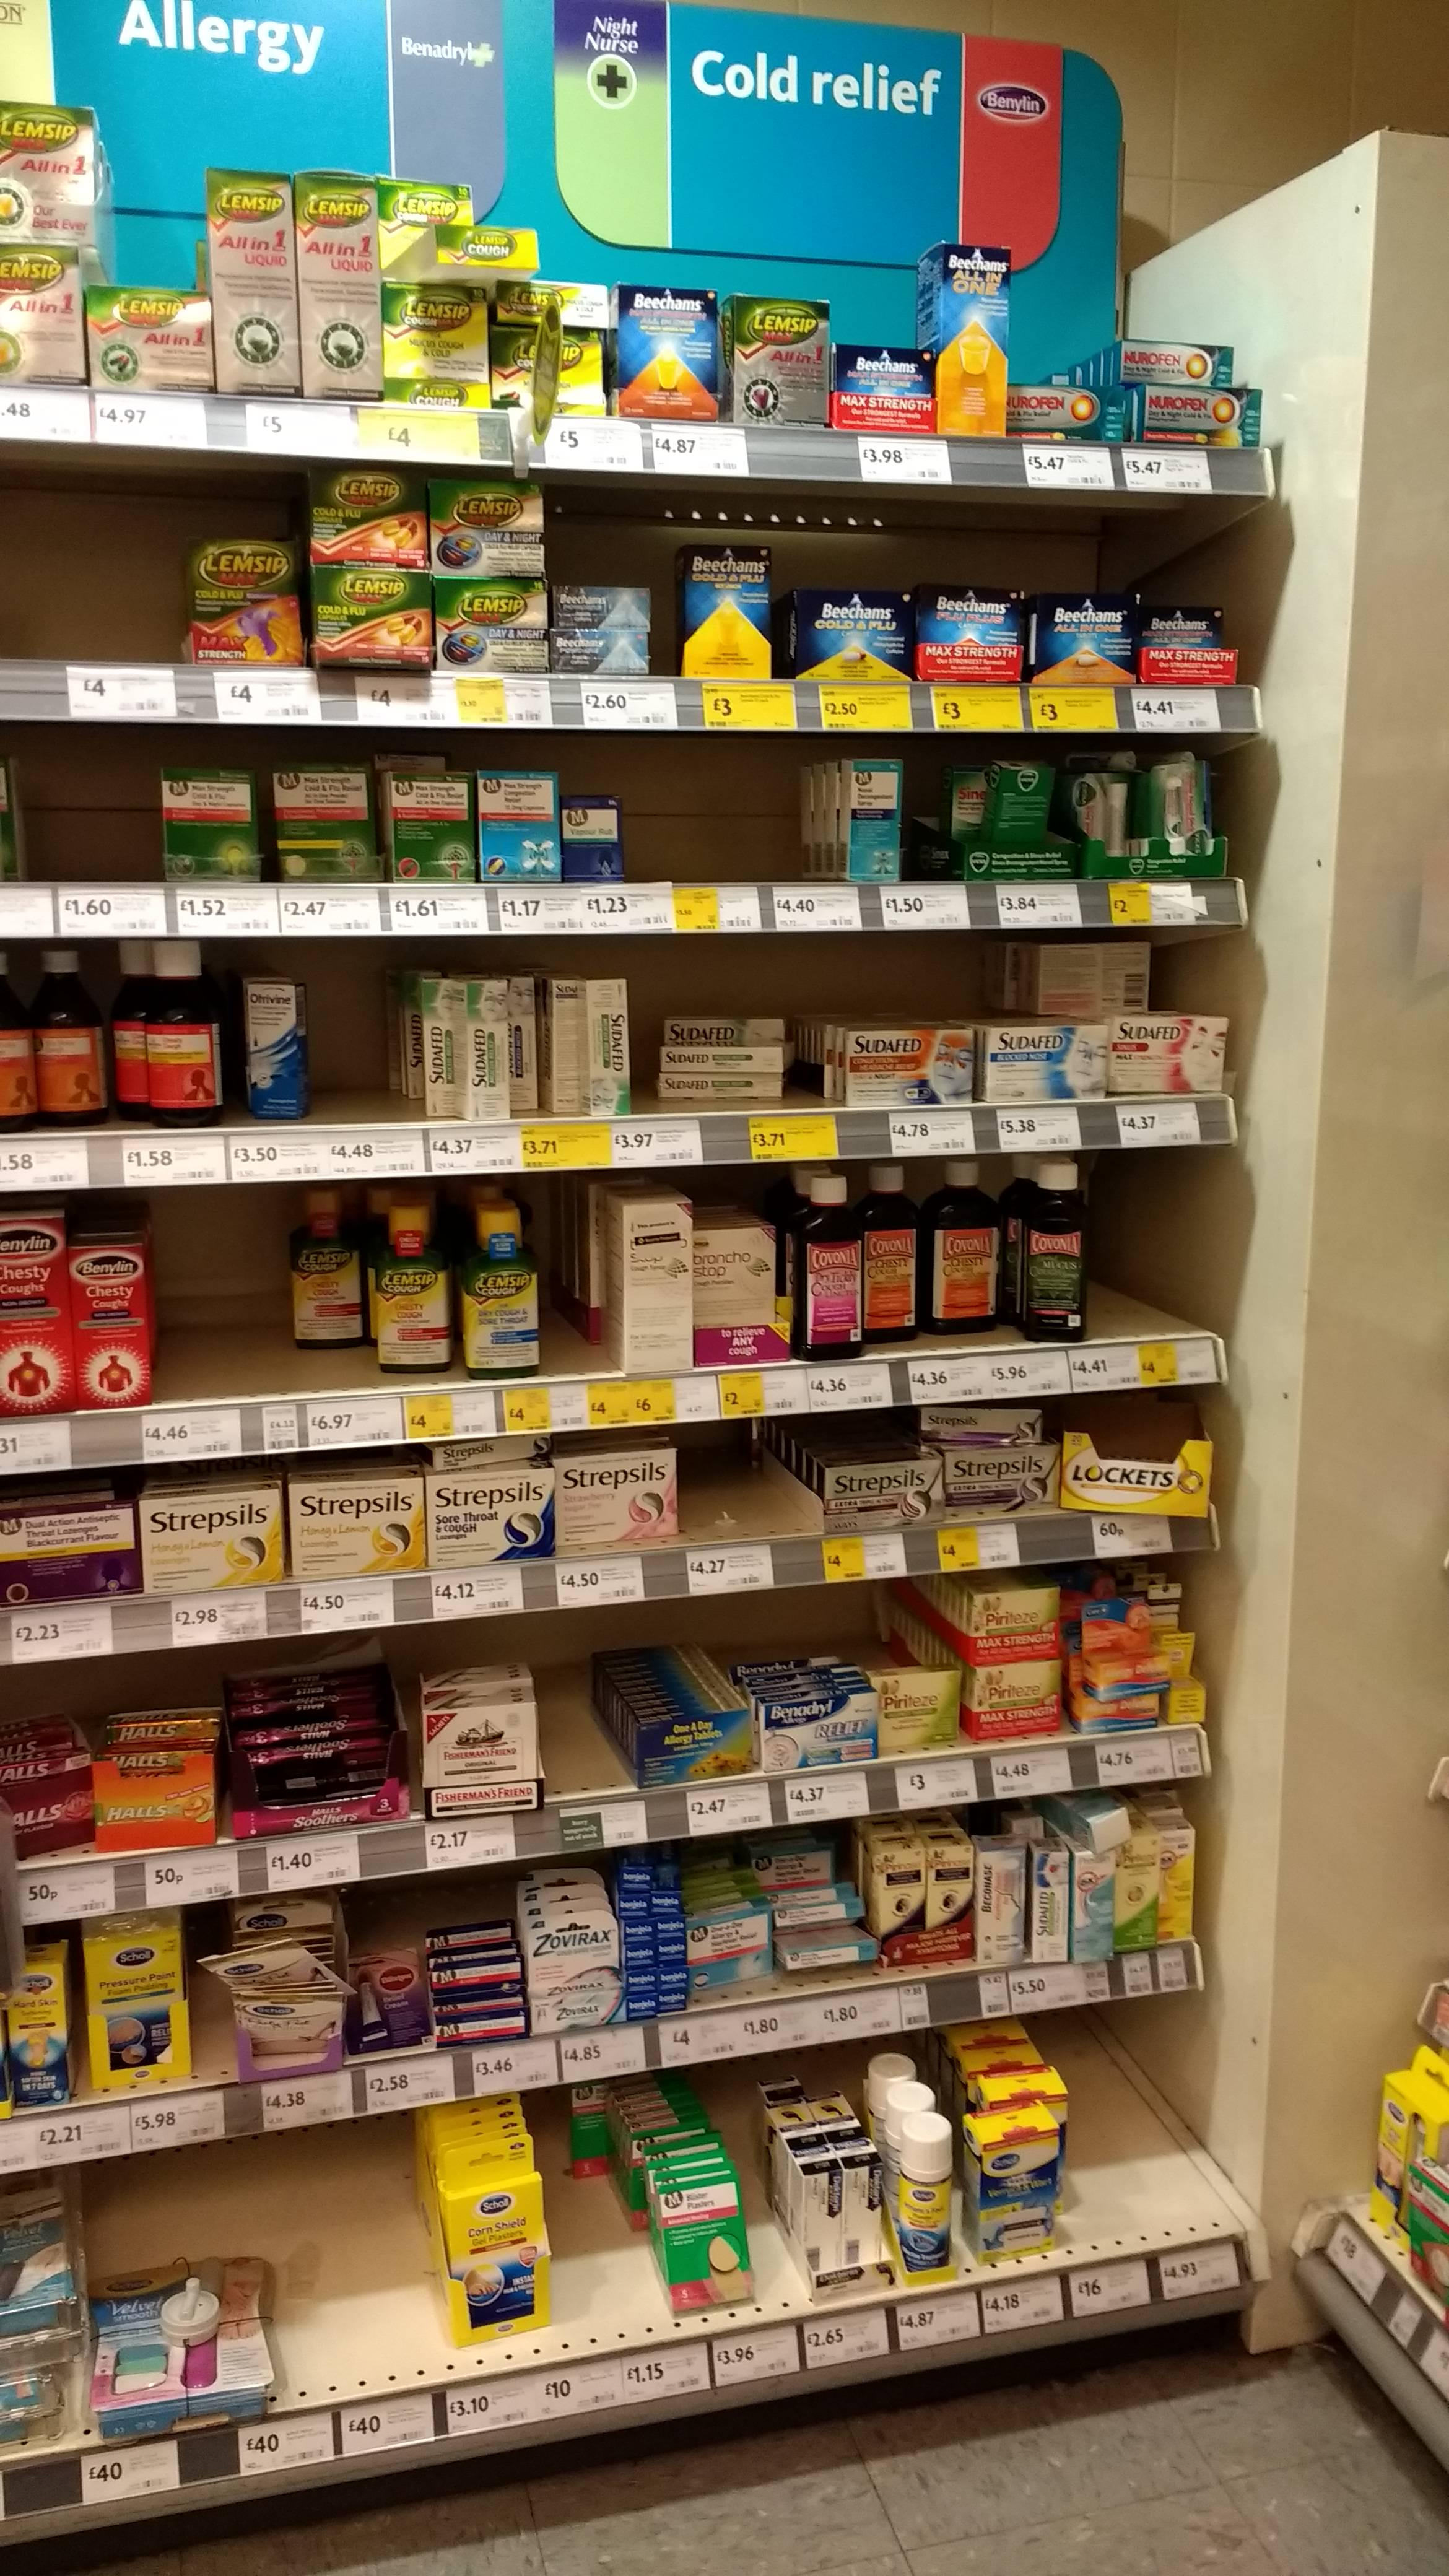empty: (1070, 2042, 1212, 2236), (280, 2189, 421, 2381), (5, 511, 172, 663), (625, 738, 782, 885), (19, 740, 157, 893), (154, 1228, 274, 1396), (554, 2162, 653, 2353), (1083, 1182, 1182, 1330), (311, 975, 409, 1123), (556, 1651, 625, 1805), (694, 1437, 801, 1530)
